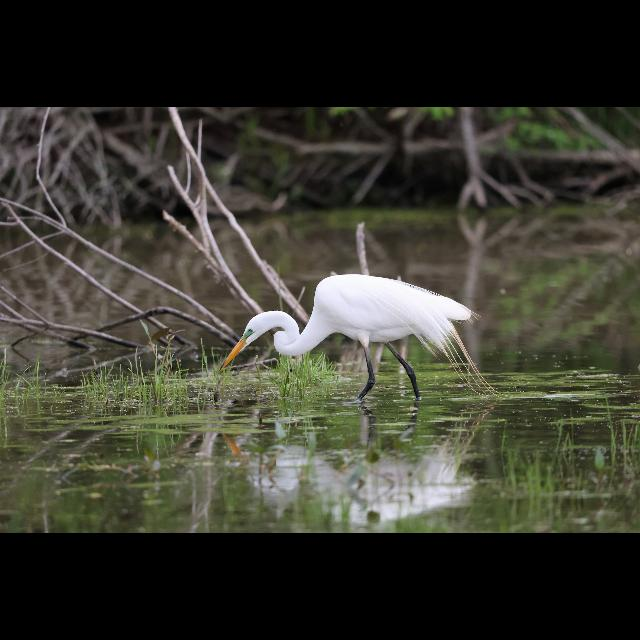egret: (220, 274, 480, 398)
